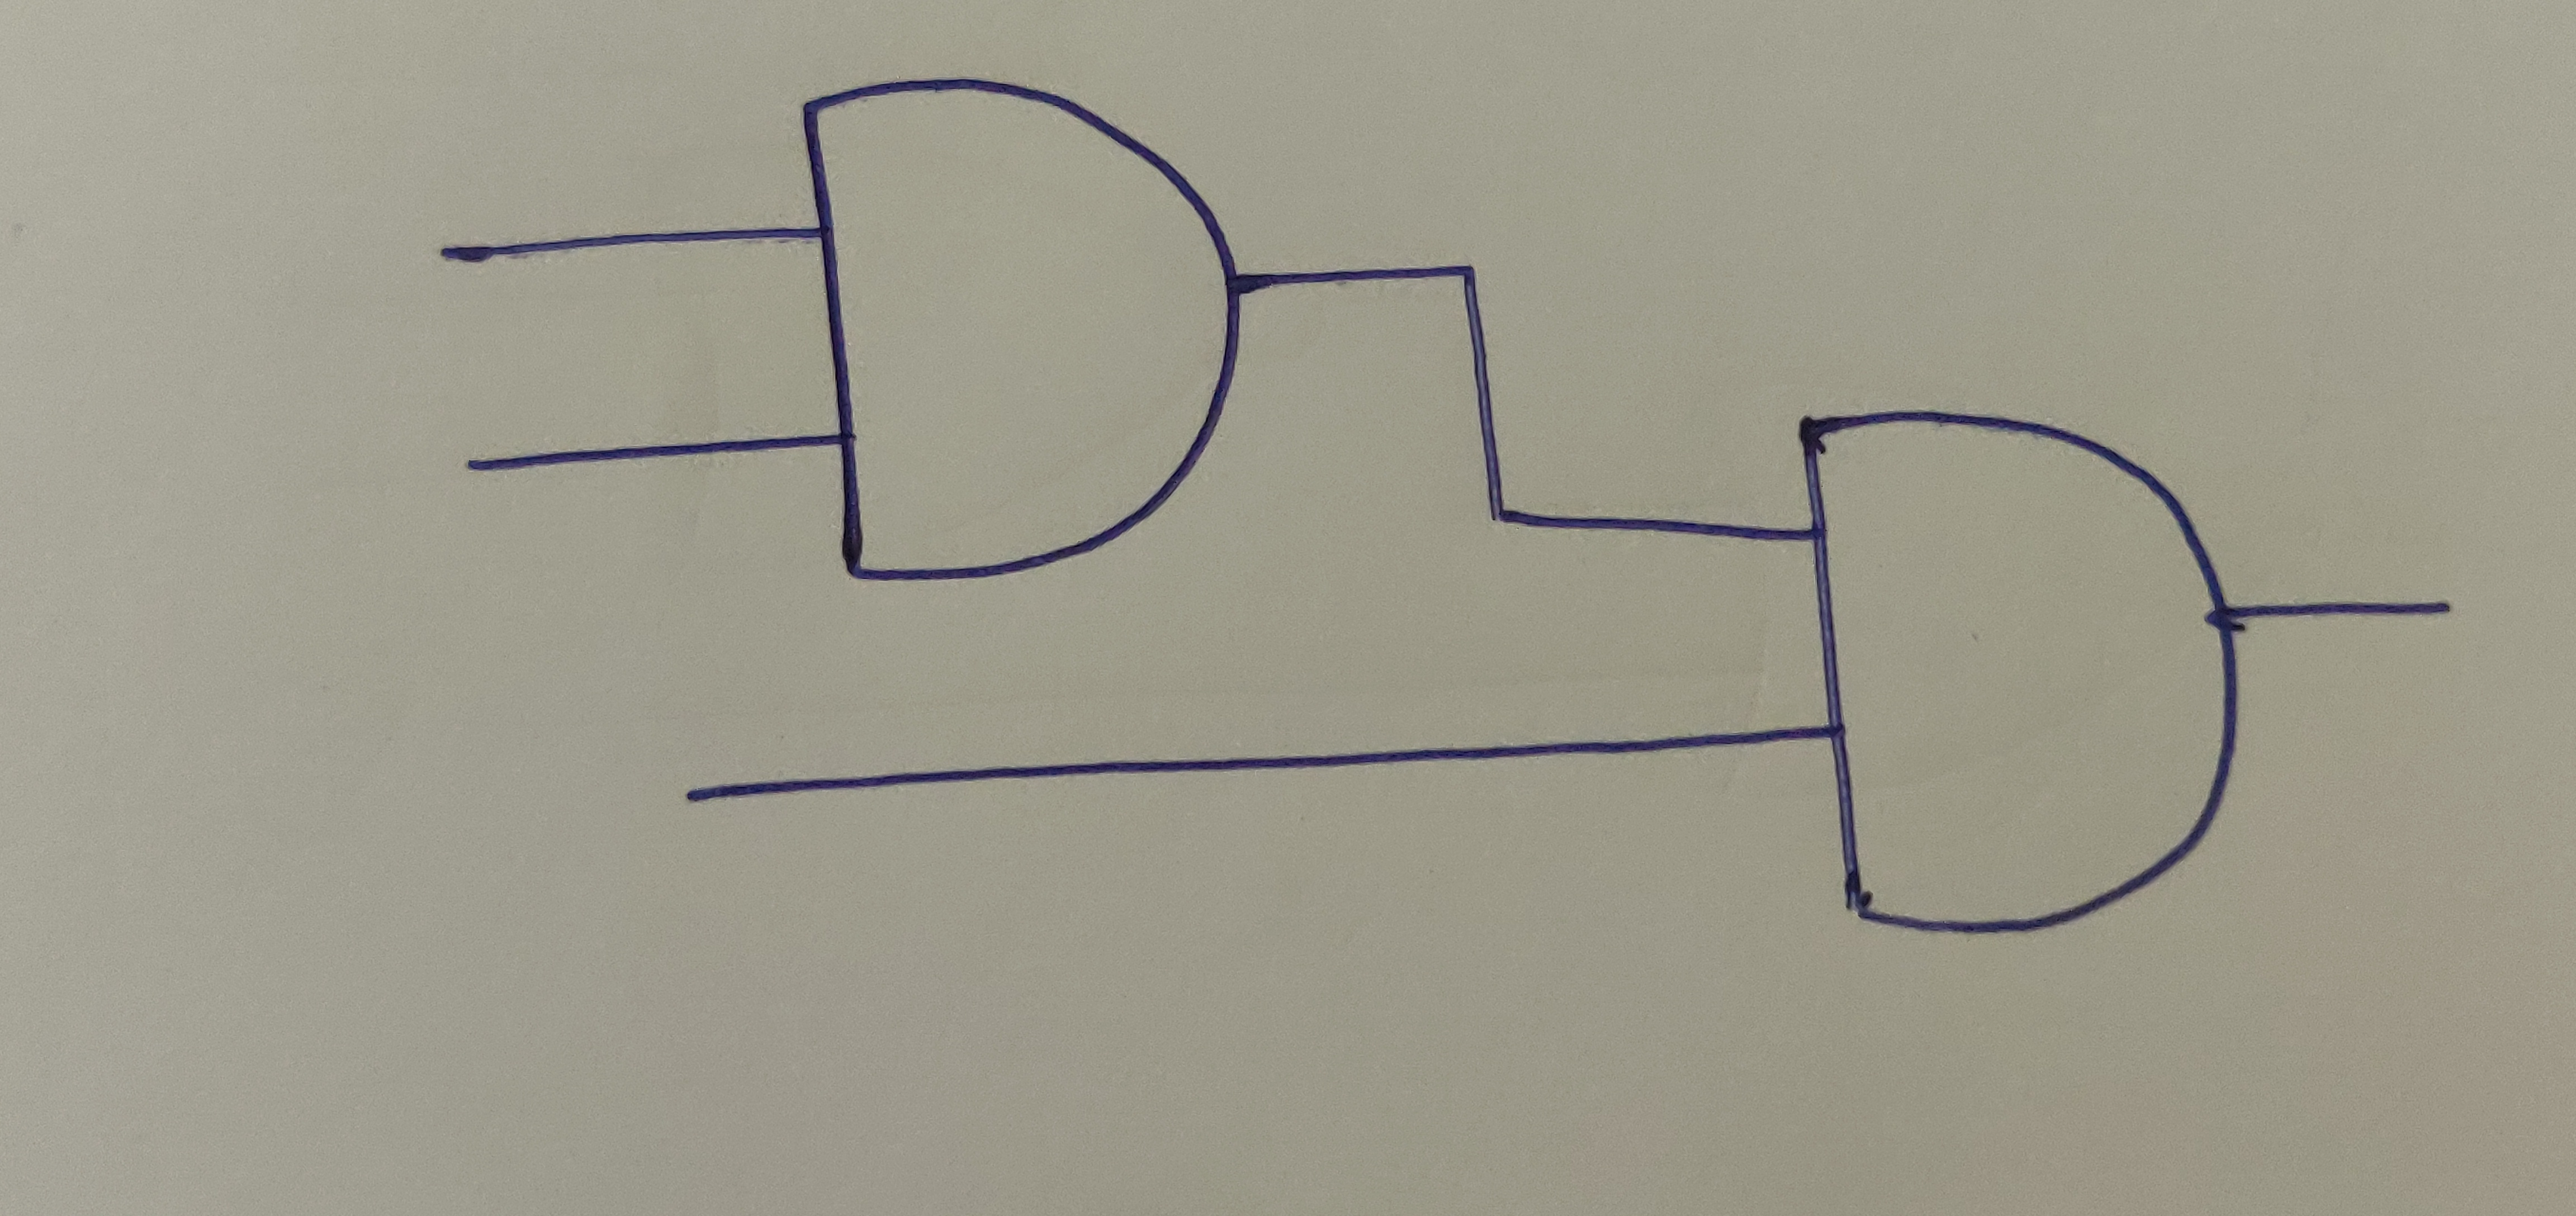and: (1789, 408, 2239, 938), (789, 72, 1250, 585)
